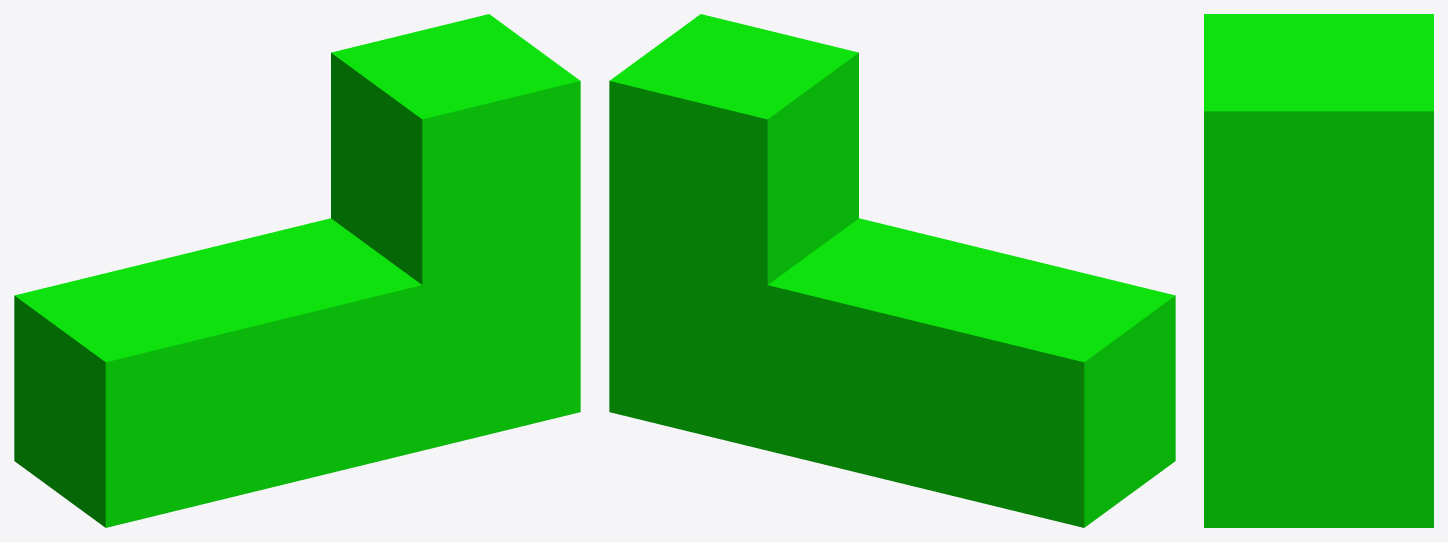
The model's file is green.obj.
3 renders of one model, left to right at view 1: azimuth 30°, elevation 25°; view 2: azimuth 150°, elevation 25°; view 3: azimuth 270°, elevation 25°, orthographic. The views are drawn at different scales.
Bounding box in the file's own units: 3 × 2 × 1.
1 material, 1 textured.
